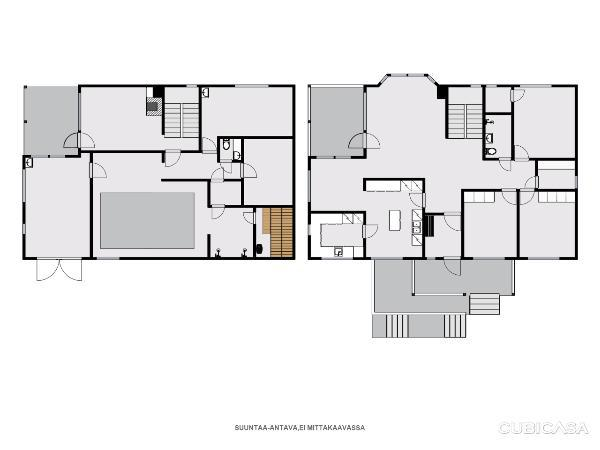bathroom: (484, 114, 513, 160), (219, 137, 243, 161)
door: (34, 255, 62, 283), (59, 254, 85, 283), (440, 210, 463, 233), (440, 254, 463, 277), (164, 147, 185, 169), (87, 161, 111, 180), (345, 131, 368, 150), (363, 131, 384, 151), (518, 186, 538, 206), (61, 131, 82, 150), (77, 130, 96, 150), (239, 161, 259, 180), (512, 143, 532, 162), (407, 191, 428, 209), (500, 187, 519, 206), (200, 135, 217, 156), (209, 202, 226, 222), (209, 167, 227, 185), (508, 89, 528, 103), (498, 155, 513, 173), (242, 210, 259, 225), (362, 223, 380, 237), (523, 175, 541, 189), (219, 158, 234, 174)
perimeter: (307, 83, 580, 260), (21, 85, 295, 260)
stairs: (163, 102, 181, 139), (469, 293, 500, 314), (182, 103, 200, 139), (465, 104, 483, 139), (448, 104, 466, 138), (386, 314, 410, 338), (444, 313, 466, 336)
window: (20, 166, 29, 206), (361, 91, 369, 133), (309, 83, 365, 89), (306, 166, 314, 205), (523, 255, 562, 263), (229, 82, 272, 89), (515, 83, 556, 90), (369, 255, 407, 262), (406, 71, 428, 83), (95, 255, 124, 264), (306, 121, 313, 158), (306, 85, 313, 122), (472, 255, 508, 262), (318, 256, 355, 262), (313, 153, 336, 162), (426, 70, 438, 86), (376, 73, 390, 86), (18, 220, 28, 238), (388, 71, 408, 80), (184, 81, 200, 92), (29, 153, 50, 160), (47, 153, 68, 160), (573, 173, 581, 191), (334, 154, 354, 161), (468, 81, 482, 89), (484, 82, 497, 89), (423, 255, 438, 261), (307, 223, 312, 239)
